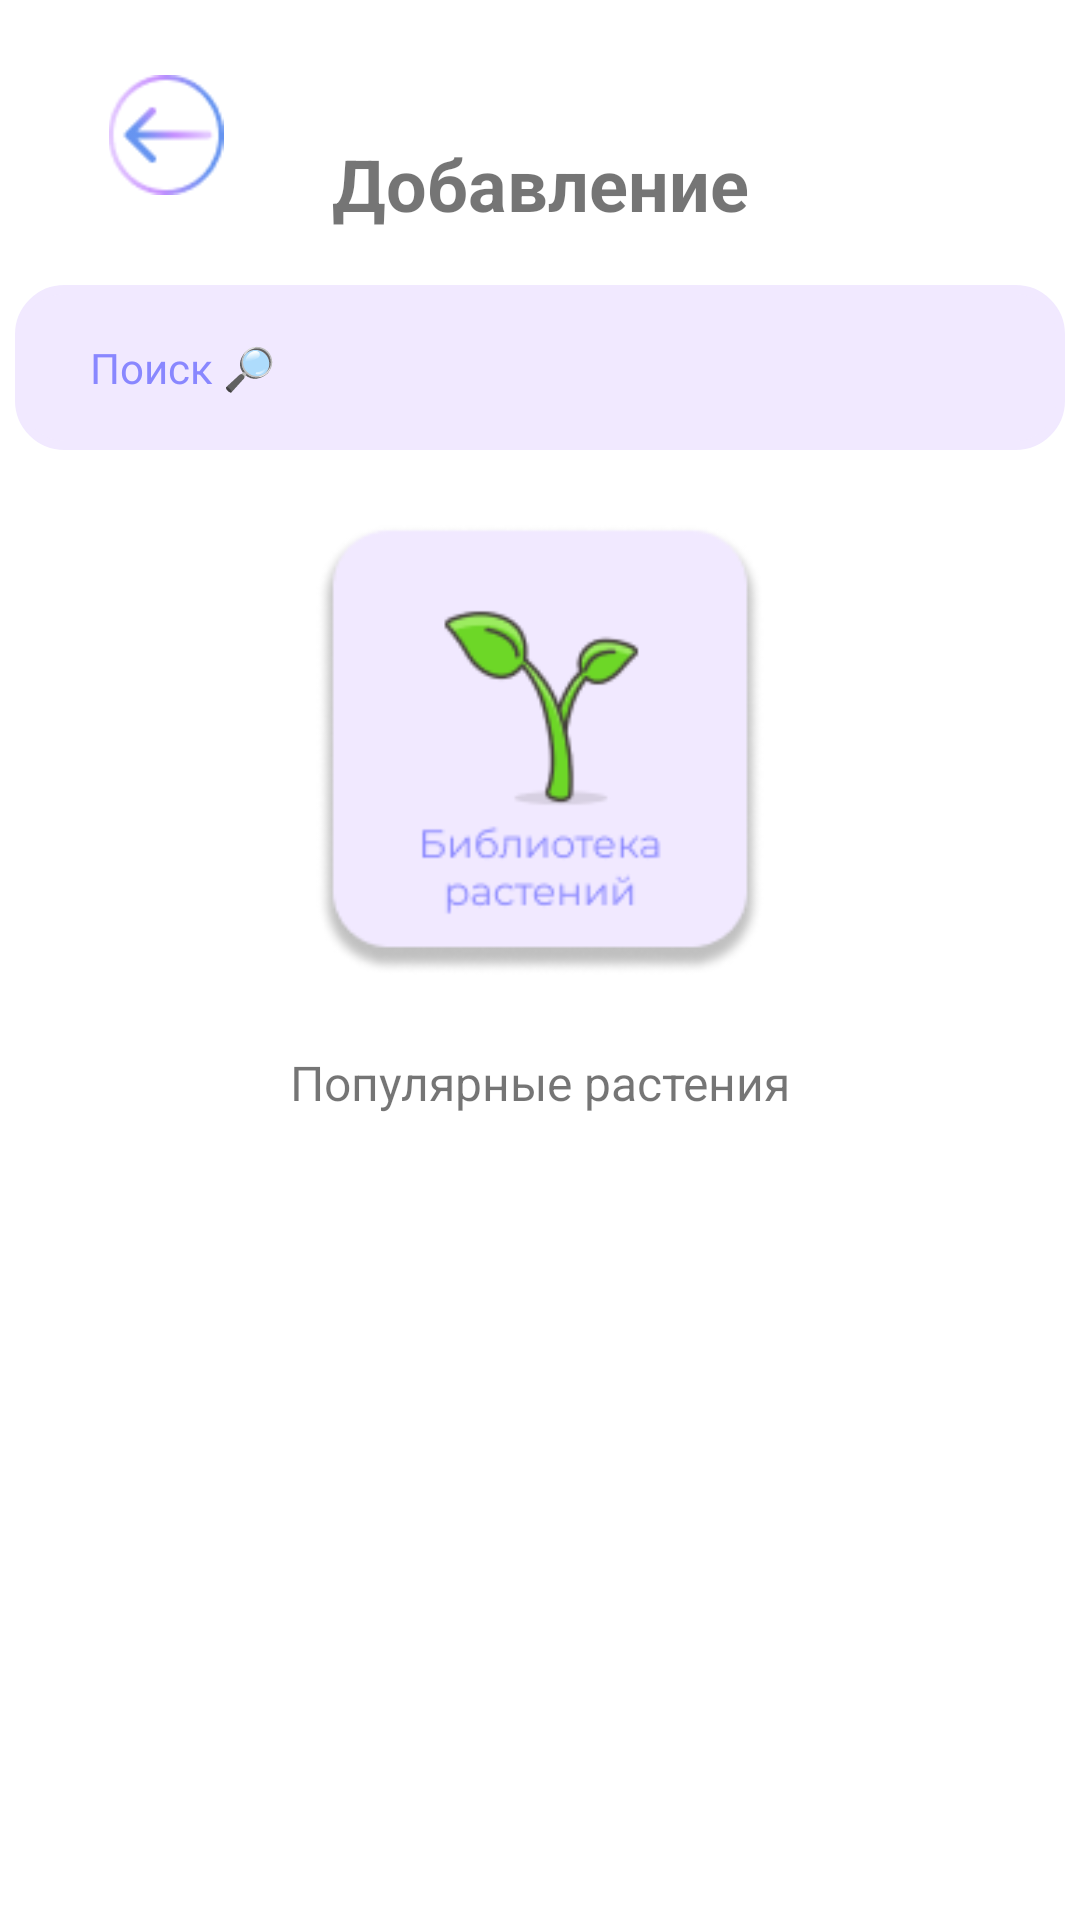

Icons on this 1080 × 1920 Android screen, each with the point to tap as [x,y]:
arrow: [166,135]
